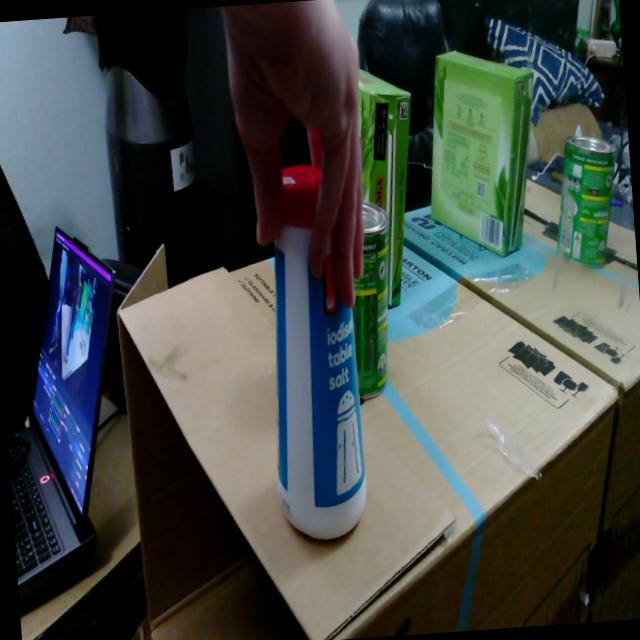nestle_milo_tin: (352, 202, 388, 398)
twinings_greentea_box: (358, 68, 410, 306)
woolworths_salt_bottle: (275, 165, 366, 538)
